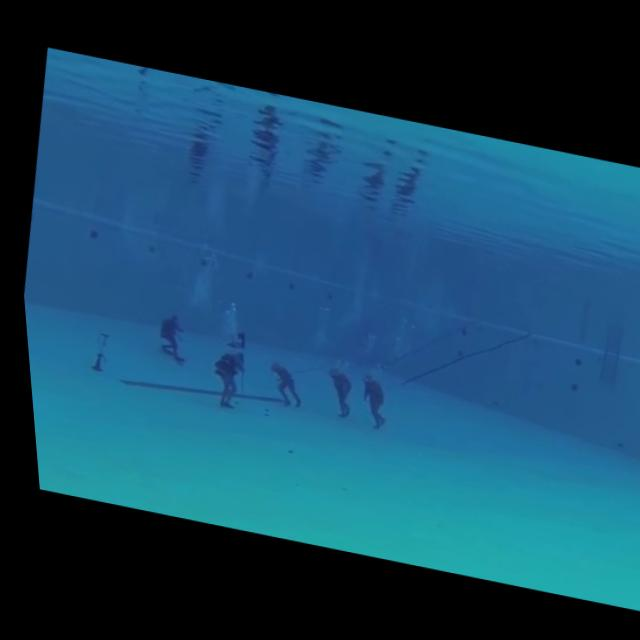human: (192, 339, 249, 414), (142, 305, 194, 370), (308, 358, 356, 422), (345, 363, 390, 431), (251, 355, 304, 410)
